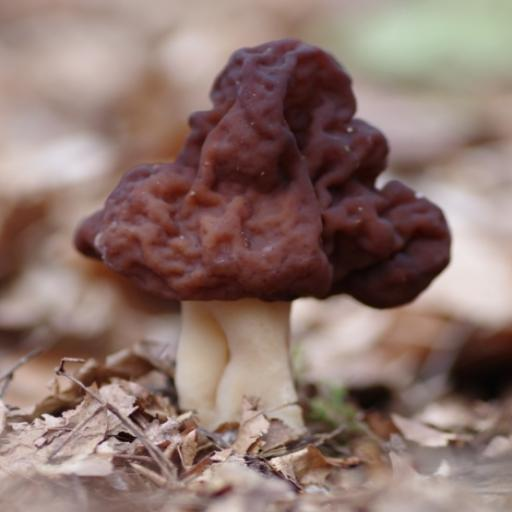mushroom: (74, 36, 452, 379)
